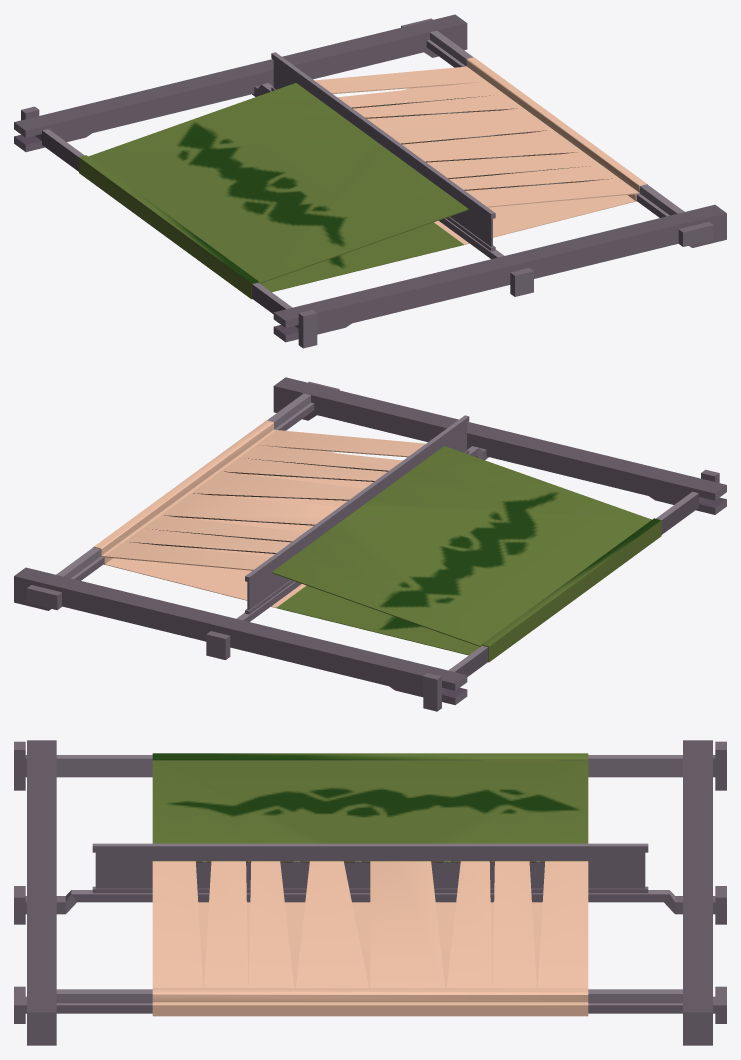
File: Loomv2.fbx
The picture shows the model from 3 angles, top to bottom: view 1: azimuth 30°, elevation 25°; view 2: azimuth 150°, elevation 25°; view 3: azimuth 270°, elevation 25°; orthographic projection. The views are drawn at different scales.
Parts seen in each view (by area): view 1: Loomv2; view 2: Loomv2; view 3: Loomv2.
Boxes of the visible parts, x1,y1,x2,y2 form: Loomv2: [14, 14, 726, 348]; Loomv2: [14, 377, 726, 711]; Loomv2: [14, 740, 726, 1045].
Size of the model in its own units: 0.3662 by 0.0462 by 0.4057.
1 material, 1 textured.
